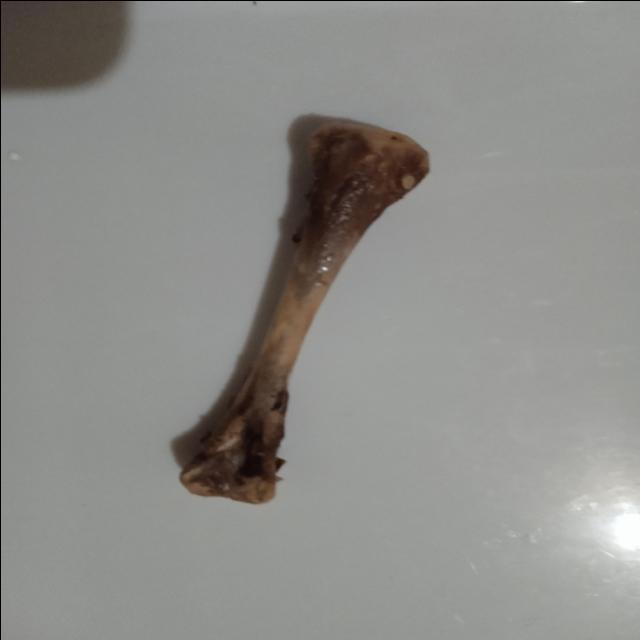bone: (165, 113, 443, 514)
